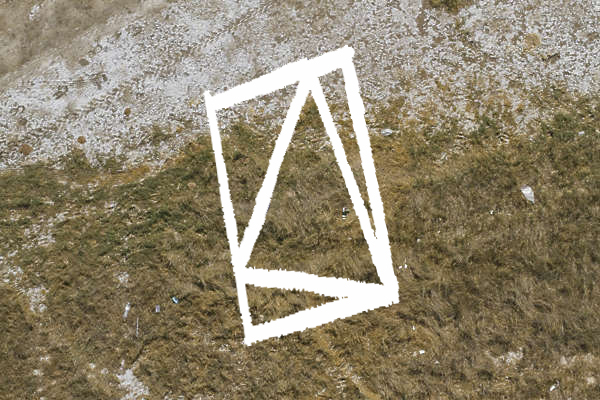marker: (199, 39, 406, 354)
